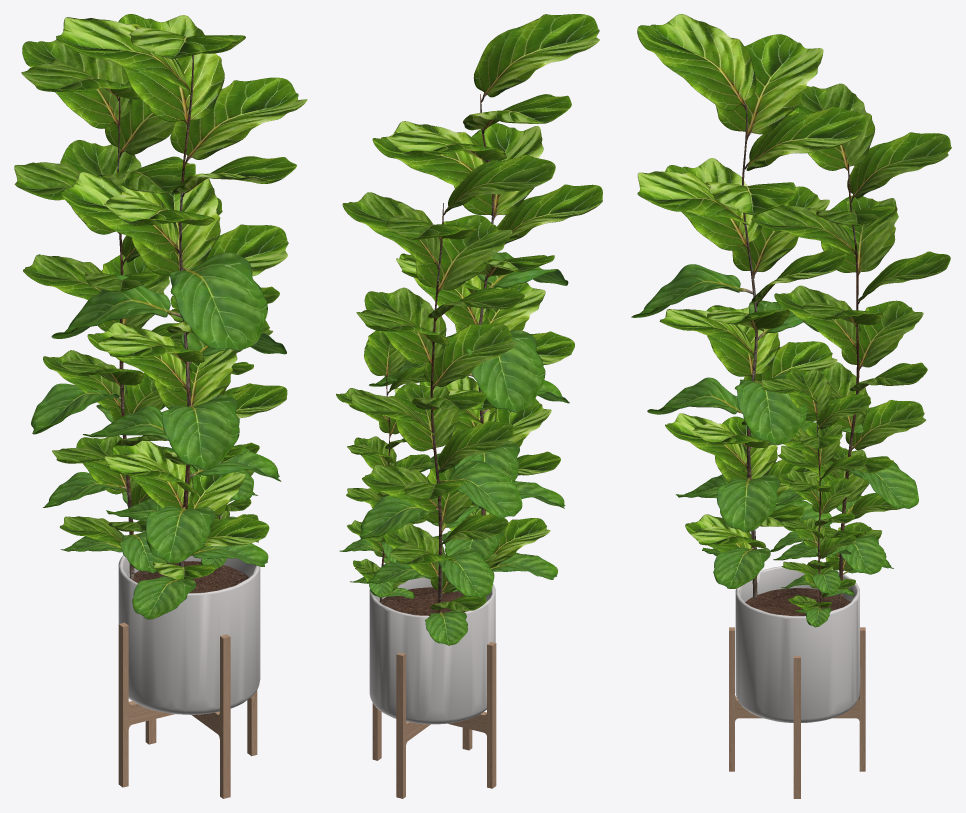
The model's file is ficus-plant.glb.
The picture shows the model from 3 angles, left to right: view 1: azimuth 30°, elevation 25°; view 2: azimuth 150°, elevation 25°; view 3: azimuth 270°, elevation 25°; orthographic projection. The views are drawn at different scales.
Parts seen in each view (by area): view 1: normalized; view 2: normalized; view 3: normalized.
Part boxes in pixels (bbox=[...]): normalized: bbox=[14, 14, 307, 798]; normalized: bbox=[336, 14, 602, 798]; normalized: bbox=[631, 14, 951, 798].
Size of the model in its own units: 0.3679 by 1.2 by 0.4937.
7 materials, 6 textured.
